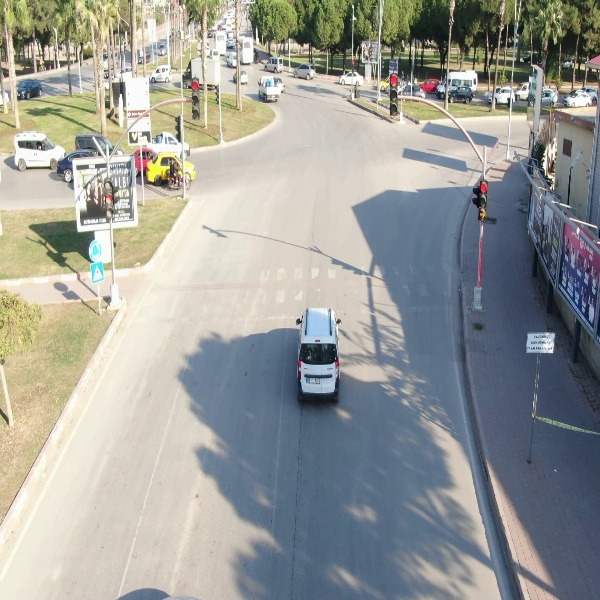car: (294, 304, 344, 406), (14, 129, 67, 171), (13, 76, 46, 101), (487, 85, 517, 108), (147, 64, 173, 87), (448, 84, 475, 104), (340, 69, 366, 87), (293, 61, 317, 80), (565, 91, 592, 107), (263, 54, 285, 72), (233, 69, 249, 85)
